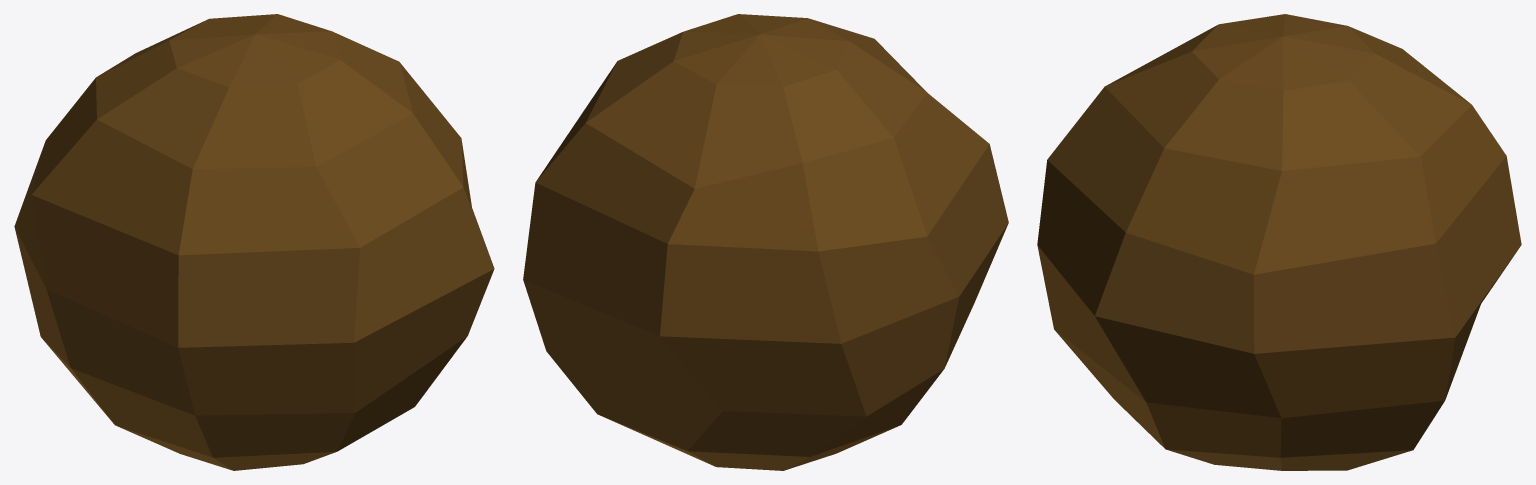
File: Boulder.fbx
3 renders of one model, left to right at view 1: azimuth 30°, elevation 25°; view 2: azimuth 150°, elevation 25°; view 3: azimuth 270°, elevation 25°, orthographic.
Parts seen in each view (by area): view 1: Sphere; view 2: Sphere; view 3: Sphere.
Part boxes in pixels (x1,y1,x2,y2): Sphere: [14, 14, 494, 470]; Sphere: [523, 14, 1008, 470]; Sphere: [1037, 14, 1521, 470].
Size of the model in its own units: 853 by 830 by 864.
